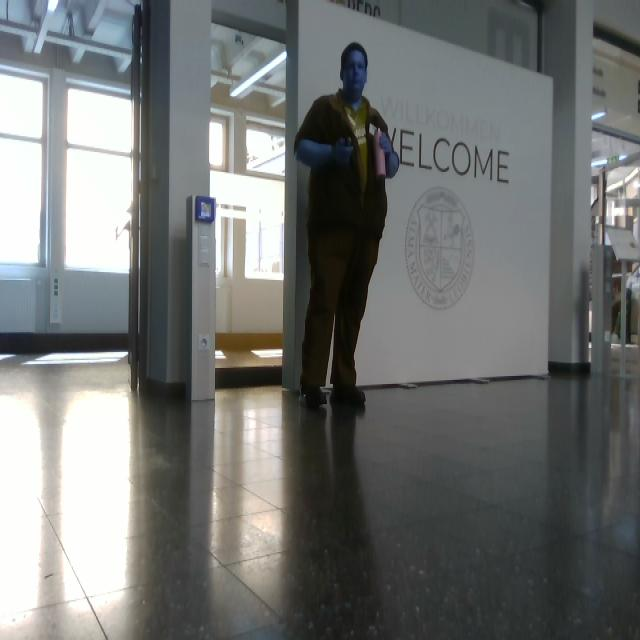light bulb: (231, 52, 286, 97), (48, 1, 59, 13)
person: (295, 44, 399, 409)
pillar: (132, 1, 215, 401), (542, 1, 592, 369)
tiled floor: (1, 360, 640, 640)
window: (210, 112, 285, 280), (65, 88, 132, 274), (1, 74, 45, 264)
